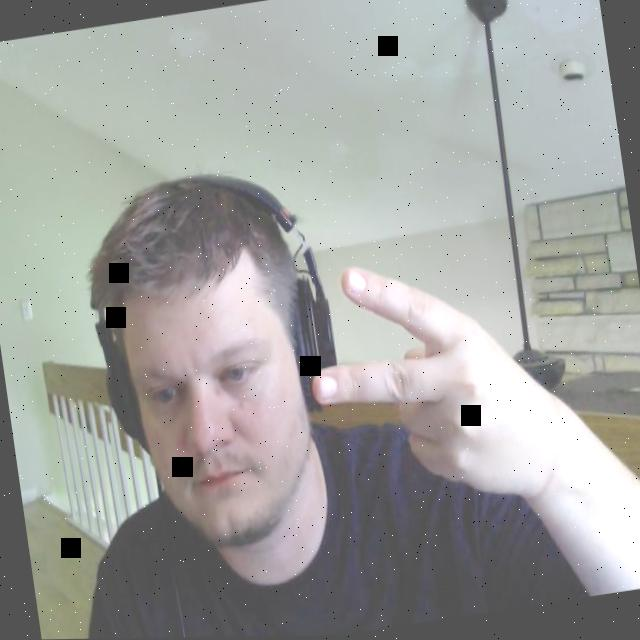Scissors: (293, 237, 574, 526)
